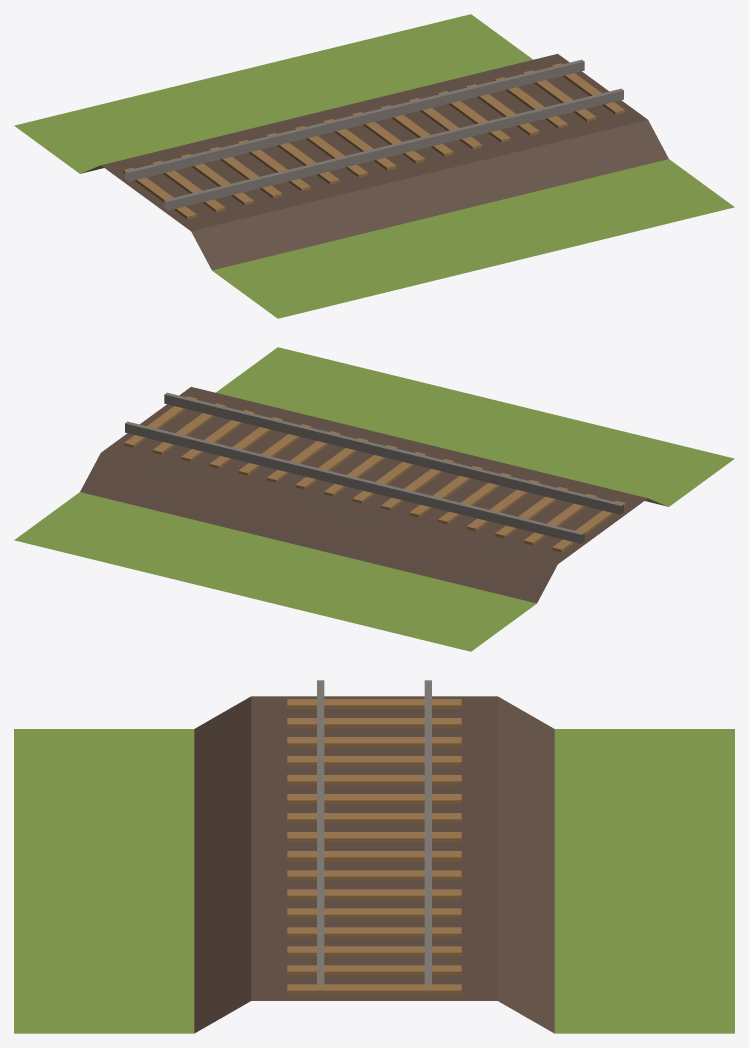
Rendered from rail_01.fbx.
The picture shows the model from 3 angles, top to bottom: view 1: azimuth 30°, elevation 25°; view 2: azimuth 150°, elevation 25°; view 3: azimuth 270°, elevation 25°; orthographic projection. The views are drawn at different scales.
Visible parts, largest first — view 1: rail_01; view 2: rail_01; view 3: rail_01.
Part boxes in pixels (left/top/right/bottom): rail_01: left=14, top=14, right=734, bottom=318; rail_01: left=14, top=347, right=734, bottom=651; rail_01: left=14, top=680, right=734, bottom=1033.
Size of the model in its own units: 1000 by 74.58 by 1000.
